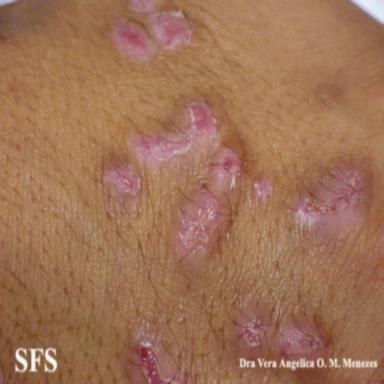Epidermolysis-Bullosa-Pruriginosa: (103, 98, 243, 278), (292, 164, 371, 242), (227, 301, 330, 359), (110, 0, 191, 61), (125, 320, 181, 384), (253, 179, 271, 199)
